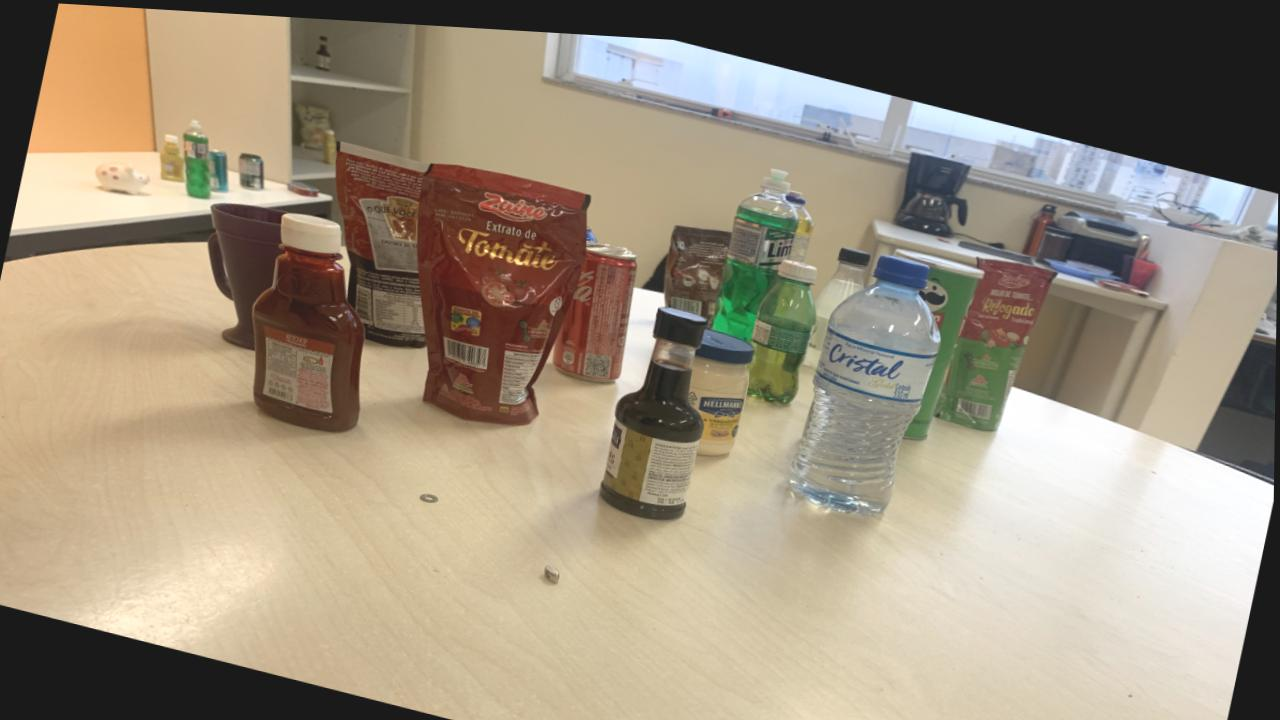Coke-Drinks: (553, 235, 637, 375)
Detergent-Cleanup_Items: (713, 159, 799, 331)
English_Sauce-Pantry_Items: (600, 298, 708, 511)
Guarana-Drinks: (748, 249, 817, 393)
Ketchup-Pantry_Items: (252, 211, 366, 427)
Mayonnaise-Pantry_Items: (688, 320, 754, 446)
Pringles-Snacks: (896, 237, 984, 428)
Soda-Drinks: (803, 249, 865, 356), (841, 237, 869, 250)
Tomato_Sauce-Pantry_Items: (416, 158, 589, 418), (939, 246, 1053, 418), (335, 138, 426, 340)
Water_Bottle-Drinks: (791, 243, 941, 503)
